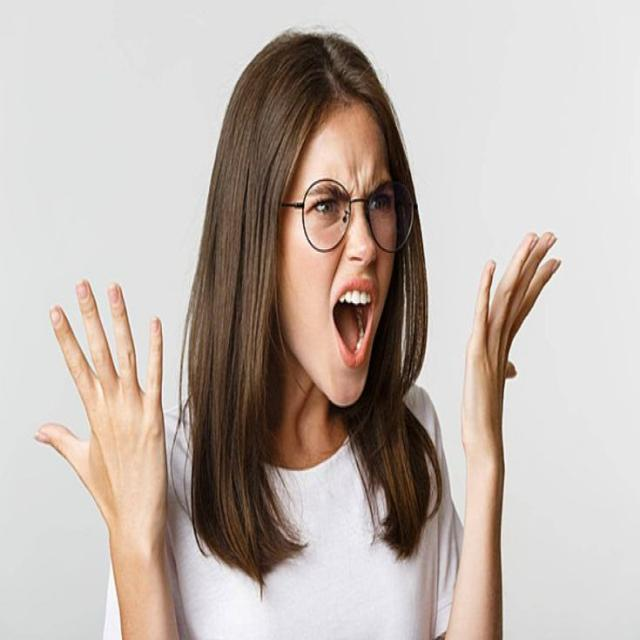sem_oculos: (281, 176, 429, 260)
